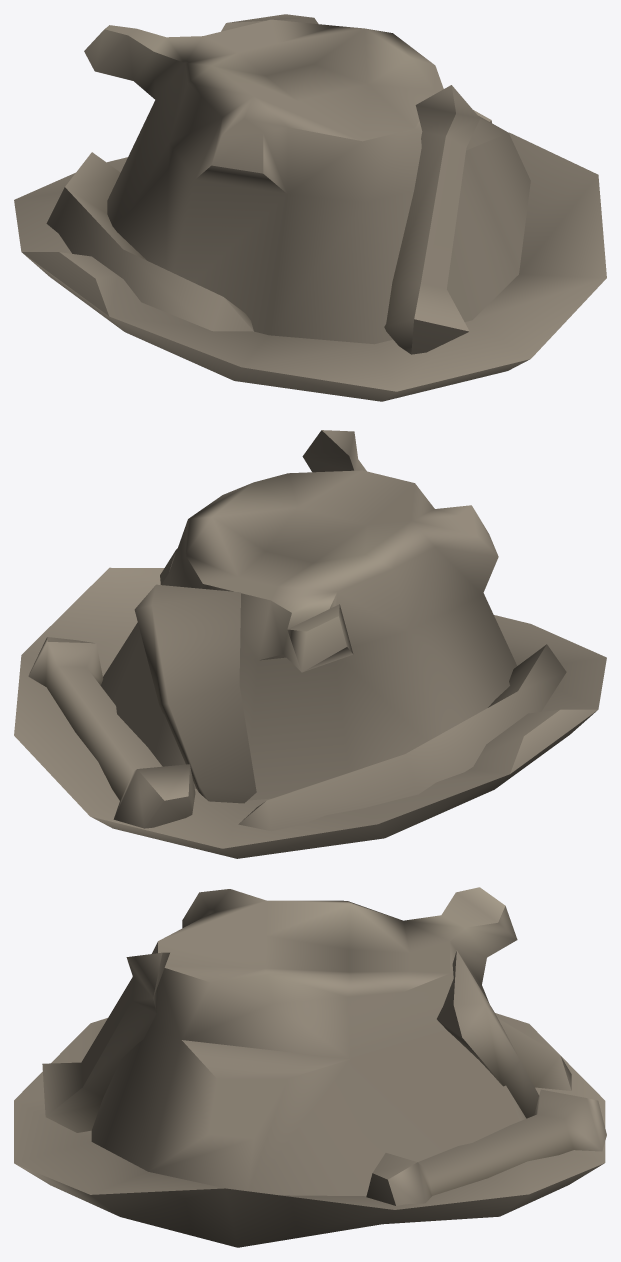
Rendered from hat_bonehat.glb.
3 renders of one model, top to bottom at view 1: azimuth 30°, elevation 25°; view 2: azimuth 150°, elevation 25°; view 3: azimuth 270°, elevation 25°, orthographic. The views are drawn at different scales.
Visible parts, largest first — view 1: hat_bonehat; view 2: hat_bonehat; view 3: hat_bonehat.
Part boxes in pixels (x1,y1,x2,y2): hat_bonehat: (14,14,606,401); hat_bonehat: (14,430,606,858); hat_bonehat: (14,887,606,1247).
Size of the model in its own units: 0.3495 by 0.1659 by 0.3817.
